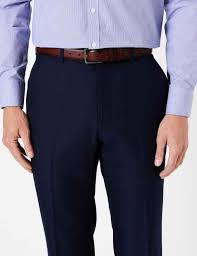F_belt: (26, 42, 168, 67)
F_dress pants: (27, 56, 164, 256)
